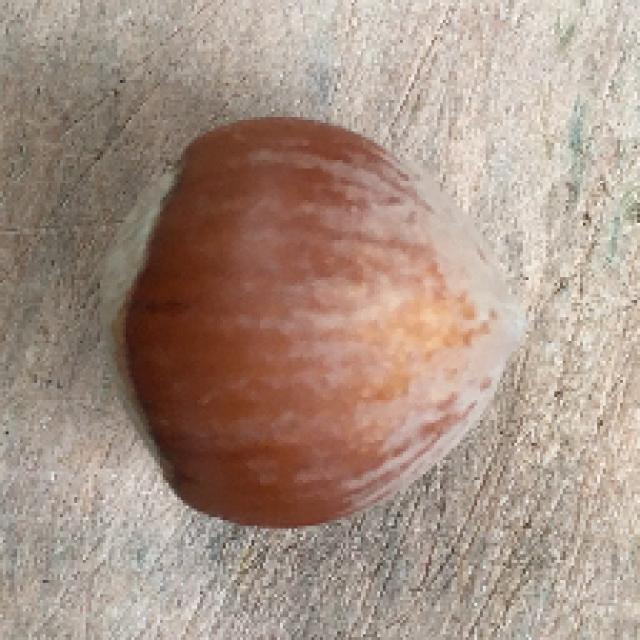qualityHazelnut: (88, 108, 530, 534)
